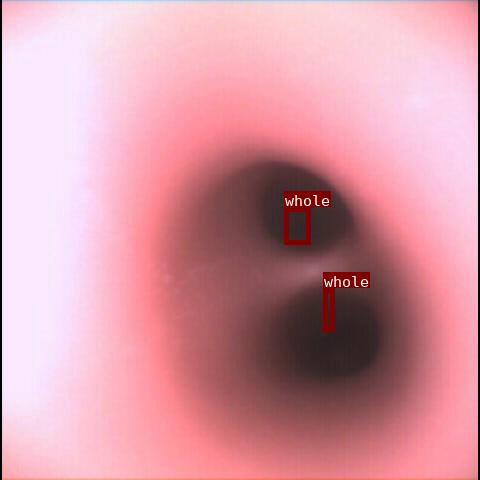whole: (284, 207, 310, 244), (323, 288, 334, 331)
